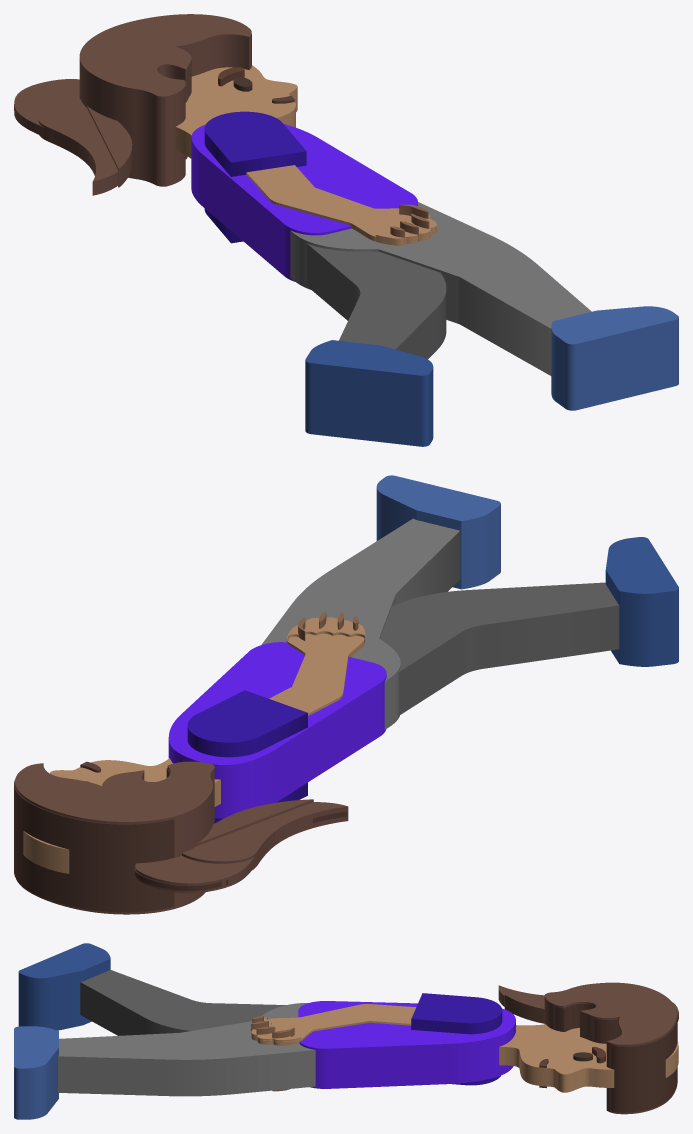
File: emoji_u1f6b6_1f3fd_200d_2640_200d_27a1.glb
3 renders of one model, top to bottom at view 1: azimuth 30°, elevation 25°; view 2: azimuth 150°, elevation 25°; view 3: azimuth 270°, elevation 25°, orthographic. The views are drawn at different scales.
Visible parts, largest first — view 1: emoji_u1f6b6_1f3fd_200d_2640_200d_27a1; view 2: emoji_u1f6b6_1f3fd_200d_2640_200d_27a1; view 3: emoji_u1f6b6_1f3fd_200d_2640_200d_27a1.
Part boxes in pixels (left/top/right/bottom): emoji_u1f6b6_1f3fd_200d_2640_200d_27a1: left=14, top=14, right=678, bottom=446; emoji_u1f6b6_1f3fd_200d_2640_200d_27a1: left=14, top=475, right=678, bottom=914; emoji_u1f6b6_1f3fd_200d_2640_200d_27a1: left=14, top=943, right=678, bottom=1119.
Bounding box in the file's own units: 0.0145 × 0.0038 × 0.033.
